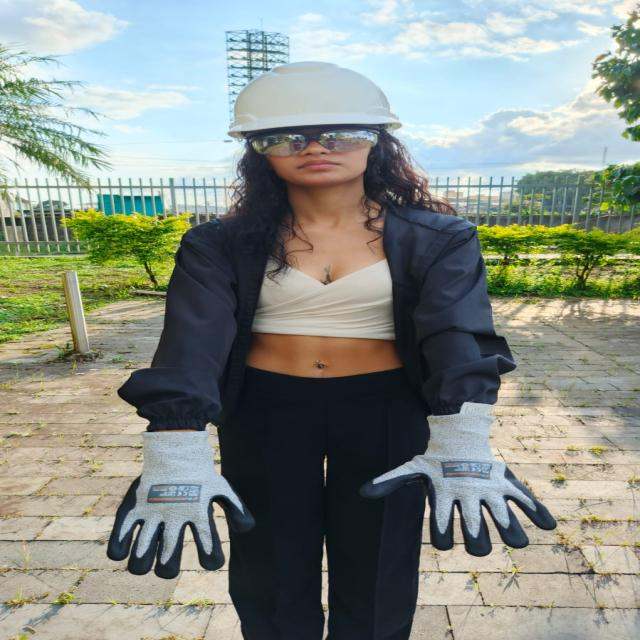gloves: (360, 403, 555, 556), (108, 430, 255, 579)
helmet: (229, 62, 402, 138)
protective_glasses: (245, 127, 393, 156)
